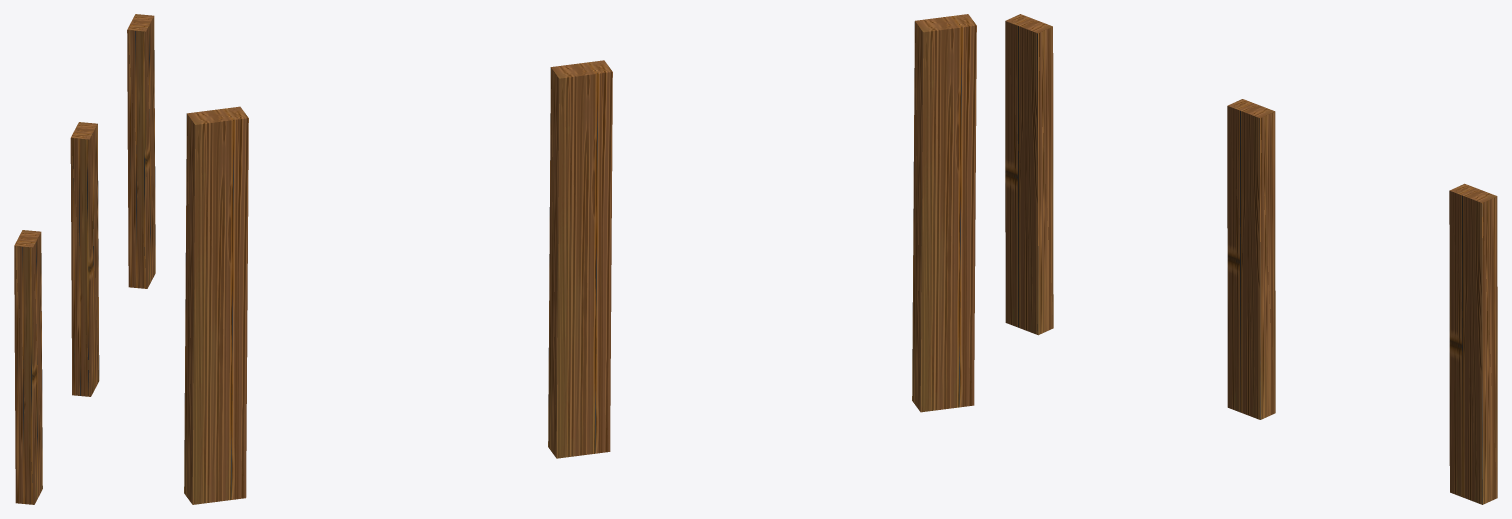
The picture shows the model from 3 angles, left to right: view 1: azimuth 30°, elevation 25°; view 2: azimuth 150°, elevation 25°; view 3: azimuth 270°, elevation 25°; orthographic projection. The views are drawn at different scales.
Visible parts, largest first — view 1: Cube.1904; view 2: Cube.1904; view 3: Cube.1904.
Boxes of the visible parts, <box> form: Cube.1904: <box>14,14,155,504</box>; Cube.1904: <box>184,14,976,504</box>; Cube.1904: <box>1005,14,1497,504</box>.
Size of the model in its own units: 196 by 144 by 211.
Materials: 1 (1 with a texture image).
